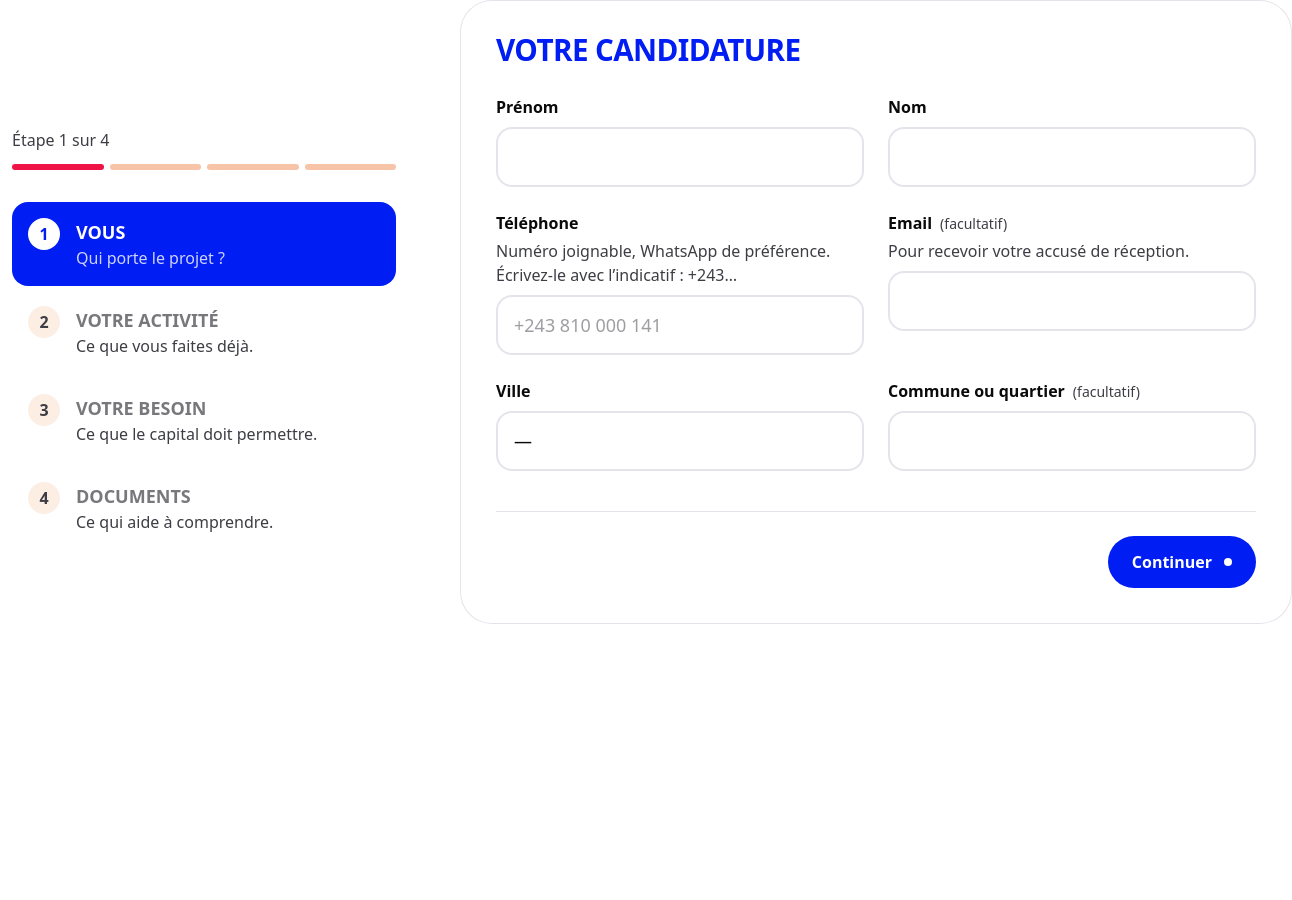
ApplicationForm › refuse les lettres dans le téléphone au lieu de les signaler après coup
Type "32u4uwfeinedsnjcssknjdcjnkdcds" into the field labelled "Téléphone" at (680, 325), box [496, 295, 864, 355]
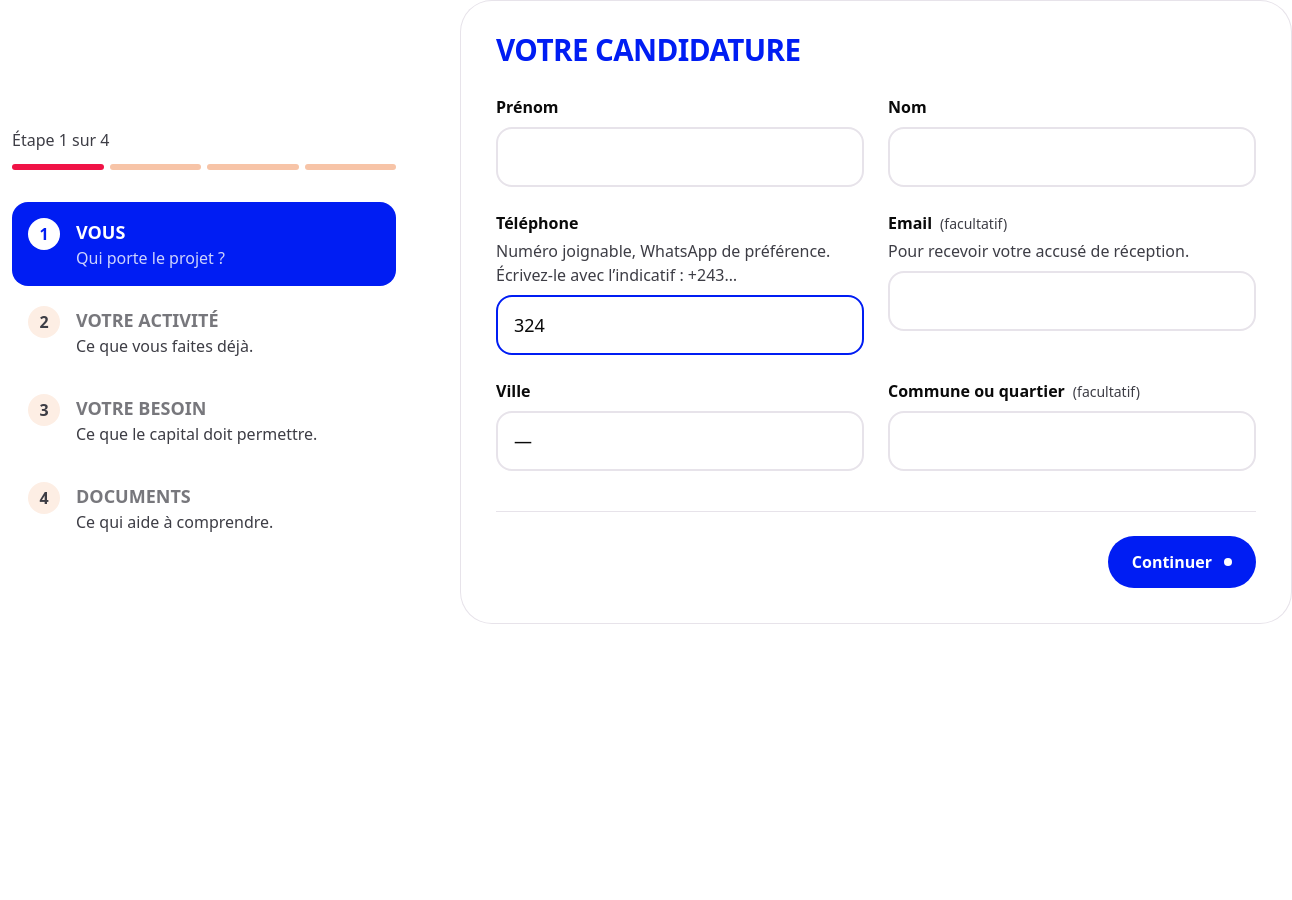
Result: the field labelled "Téléphone" holds "324" at [496, 295, 864, 355]
